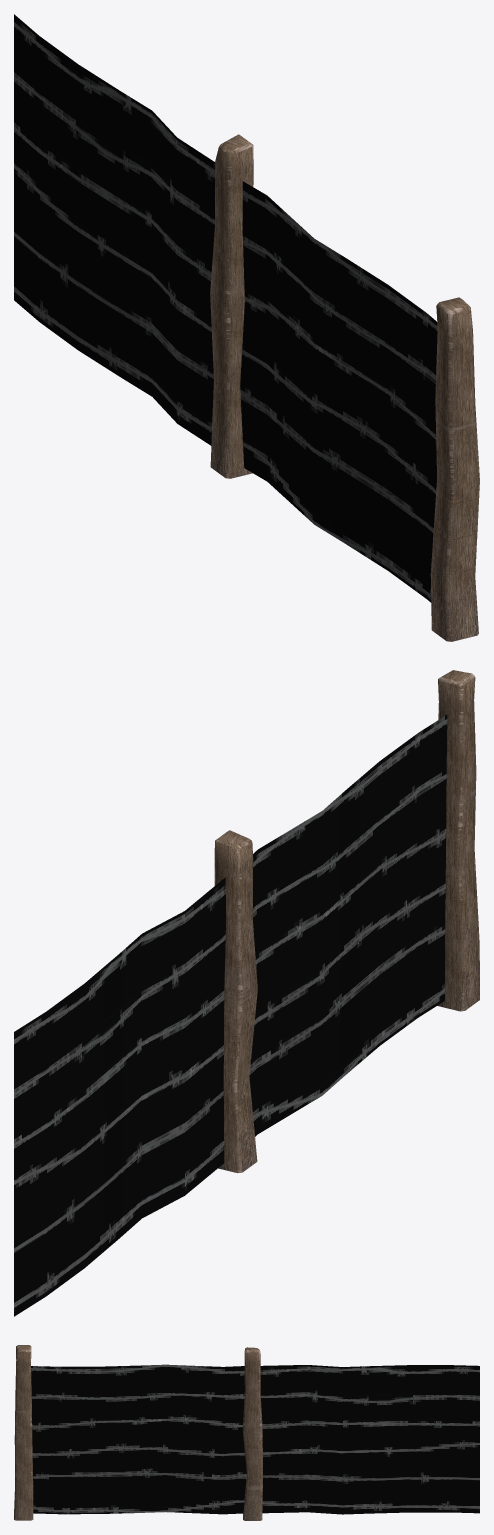
The model's file is wire_fence.glb.
3 renders of one model, top to bottom at view 1: azimuth 30°, elevation 25°; view 2: azimuth 150°, elevation 25°; view 3: azimuth 270°, elevation 25°, orthographic. The views are drawn at different scales.
Parts seen in each view (by area): view 1: Plane.016_lambert1_0, Plane.016_M_wood_fence_0; view 2: Plane.016_lambert1_0, Plane.016_M_wood_fence_0; view 3: Plane.016_lambert1_0, Plane.016_M_wood_fence_0.
Boxes of the visible parts, x1,y1,x2,y2 form: Plane.016_lambert1_0: (14,14,437,602); Plane.016_M_wood_fence_0: (210,134,479,641); Plane.016_lambert1_0: (14,715,447,1316); Plane.016_M_wood_fence_0: (214,670,479,1173); Plane.016_lambert1_0: (31,1364,479,1514); Plane.016_M_wood_fence_0: (14,1345,262,1520).
Bounding box in the file's own units: 0.1562 × 1.4 × 3.5.
Materials: 2 (2 with a texture image).
